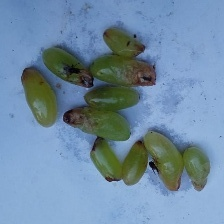grapes: (2, 25, 196, 217)
